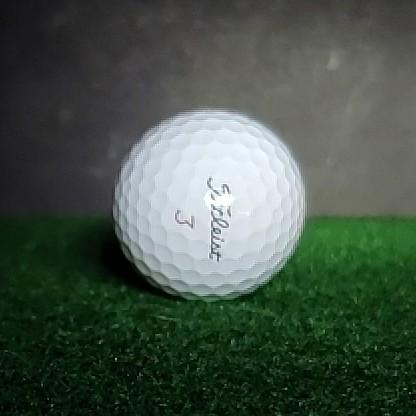golfball: (112, 109, 306, 303)
